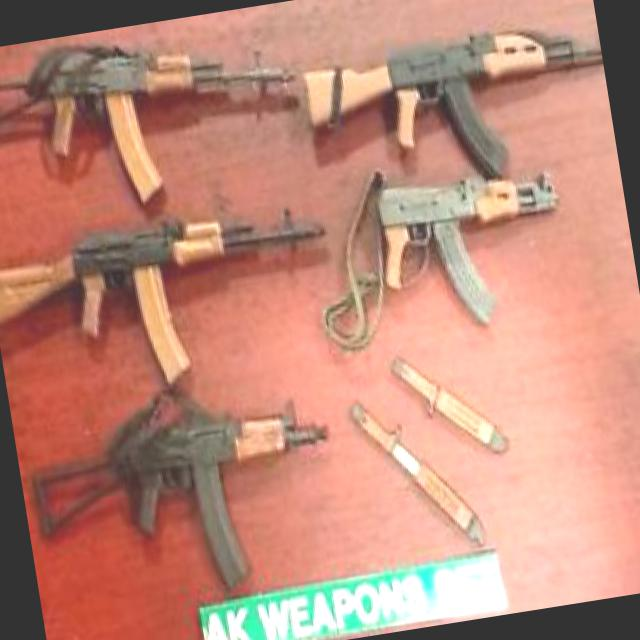long weapon: (266, 0, 615, 196), (311, 134, 596, 366)
